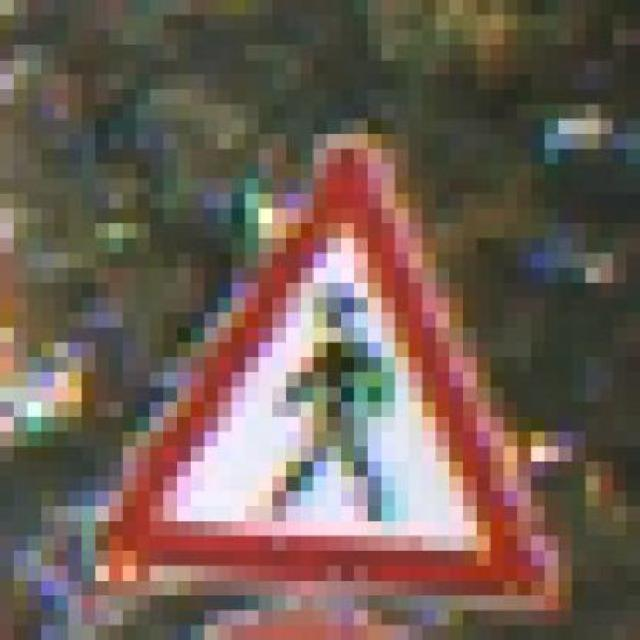Pedestrian Crossing: (96, 89, 558, 611)
